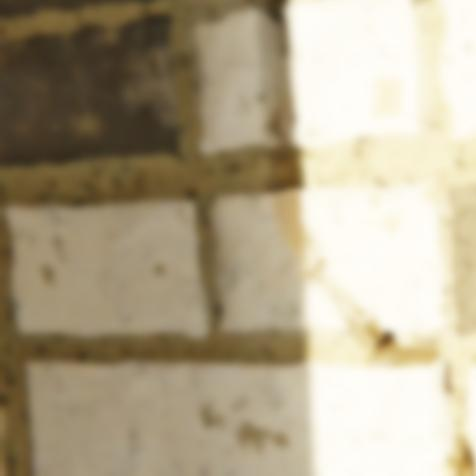brick: (27, 358, 443, 475), (6, 198, 209, 336), (0, 15, 181, 166), (438, 0, 475, 139), (447, 184, 475, 336), (0, 0, 156, 18), (464, 362, 475, 467), (0, 401, 5, 474)
broken_brick: (299, 184, 442, 330), (284, 0, 419, 146), (213, 192, 351, 330), (196, 9, 269, 153)
crack: (256, 0, 475, 475)
